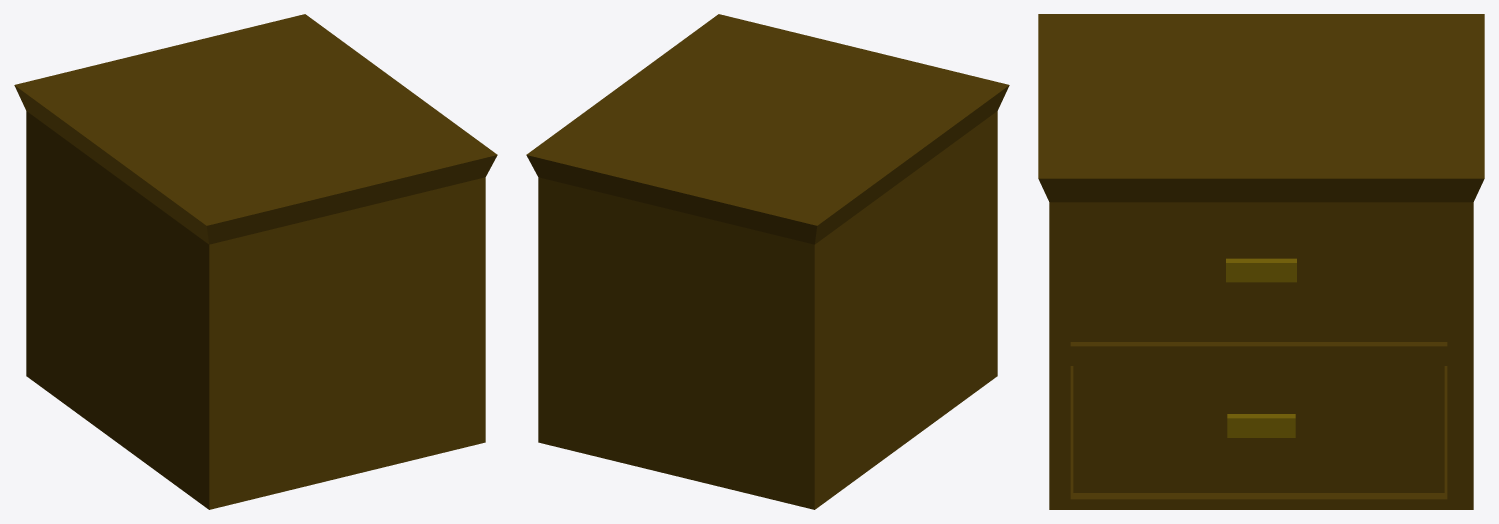
The model's file is NightStand (1).fbx.
3 views of the same model, side by side, from view 1: azimuth 30°, elevation 25°; view 2: azimuth 150°, elevation 25°; view 3: azimuth 270°, elevation 25° (orthographic). The views are drawn at different scales.
Visible parts, largest first — view 1: NightStand; view 2: NightStand; view 3: NightStand, NightStandD.
Boxes of the visible parts, box(x1,y1,x2,y2) form: NightStand: box(14, 14, 497, 509); NightStand: box(526, 14, 1009, 509); NightStand: box(1038, 14, 1484, 509); NightStandD: box(1073, 366, 1444, 492).
Bounding box in the file's own units: 210 × 200 × 241.
